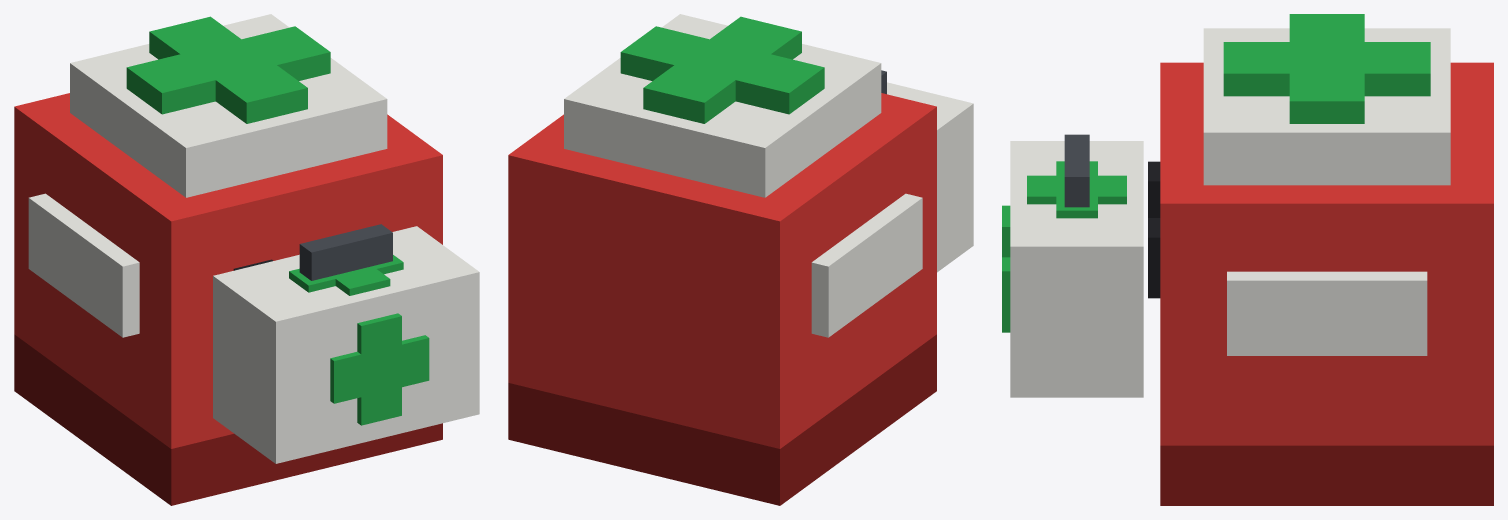
The model's file is medic_red.fbx.
The picture shows the model from 3 angles, left to right: view 1: azimuth 30°, elevation 25°; view 2: azimuth 150°, elevation 25°; view 3: azimuth 270°, elevation 25°; orthographic projection. The views are drawn at different scales.
Parts seen in each view (by area): view 1: medic_red; view 2: medic_red; view 3: medic_red.
Part boxes in pixels (<box>): medic_red: <box>14,14,479,505</box>; medic_red: <box>508,14,973,505</box>; medic_red: <box>1002,14,1493,505</box>.
Size of the model in its own units: 0.45 by 0.5 by 0.59.
